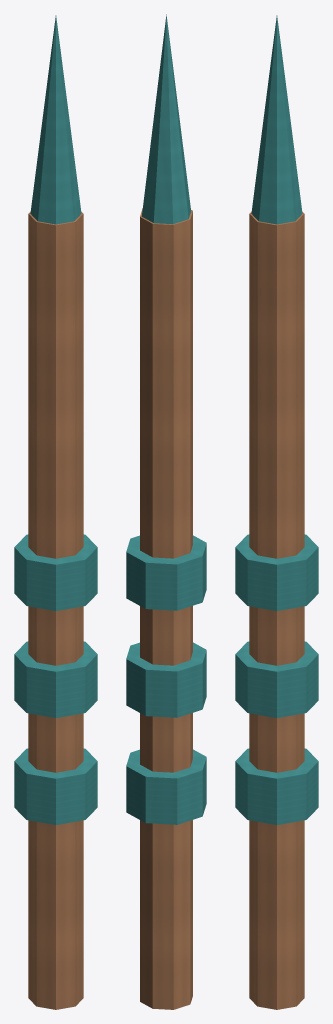
File: atlas100-s091-a05.glb
The picture shows the model from 3 angles, left to right: view 1: azimuth 90°, elevation 25°; view 2: azimuth 150°, elevation 25°; view 3: azimuth 270°, elevation 25°; orthographic projection.
Parts seen in each view (by area): view 1: atlas100-s091-a05:part-000, atlas100-s091-a05:part-004, atlas100-s091-a05:part-002, atlas100-s091-a05:part-003, atlas100-s091-a05:part-001; view 2: atlas100-s091-a05:part-000, atlas100-s091-a05:part-004, atlas100-s091-a05:part-001, atlas100-s091-a05:part-002, atlas100-s091-a05:part-003; view 3: atlas100-s091-a05:part-000, atlas100-s091-a05:part-004, atlas100-s091-a05:part-002, atlas100-s091-a05:part-003, atlas100-s091-a05:part-001.
Boxes of the visible parts, bbox=[...] form: atlas100-s091-a05:part-000: bbox=[28, 212, 83, 1009]; atlas100-s091-a05:part-004: bbox=[30, 15, 81, 224]; atlas100-s091-a05:part-002: bbox=[14, 641, 97, 717]; atlas100-s091-a05:part-003: bbox=[14, 534, 97, 610]; atlas100-s091-a05:part-001: bbox=[14, 748, 97, 824]; atlas100-s091-a05:part-000: bbox=[140, 208, 192, 1009]; atlas100-s091-a05:part-004: bbox=[142, 14, 190, 224]; atlas100-s091-a05:part-001: bbox=[126, 749, 206, 824]; atlas100-s091-a05:part-002: bbox=[126, 642, 206, 717]; atlas100-s091-a05:part-003: bbox=[126, 535, 206, 610]; atlas100-s091-a05:part-000: bbox=[249, 212, 304, 1009]; atlas100-s091-a05:part-004: bbox=[251, 15, 302, 224]; atlas100-s091-a05:part-002: bbox=[235, 641, 318, 717]; atlas100-s091-a05:part-003: bbox=[235, 534, 318, 610]; atlas100-s091-a05:part-001: bbox=[235, 748, 318, 824].
Bounding box in the file's own units: 0.1158 × 1.51 × 0.1158.
Materials: 2 (2 with a texture image).
